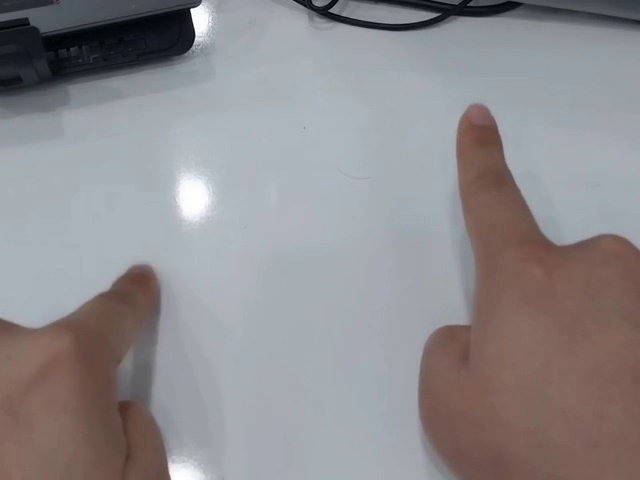fingers: (111, 262, 158, 317), (455, 102, 503, 149)
